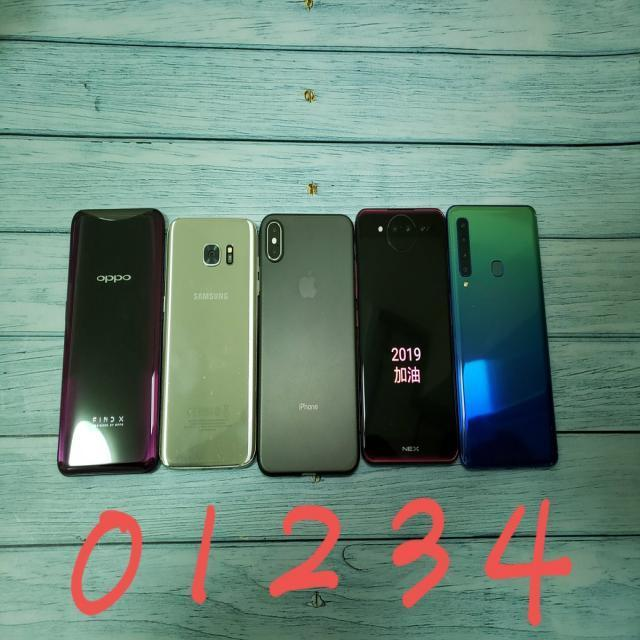phone: (260, 214, 358, 478), (162, 216, 260, 469)
